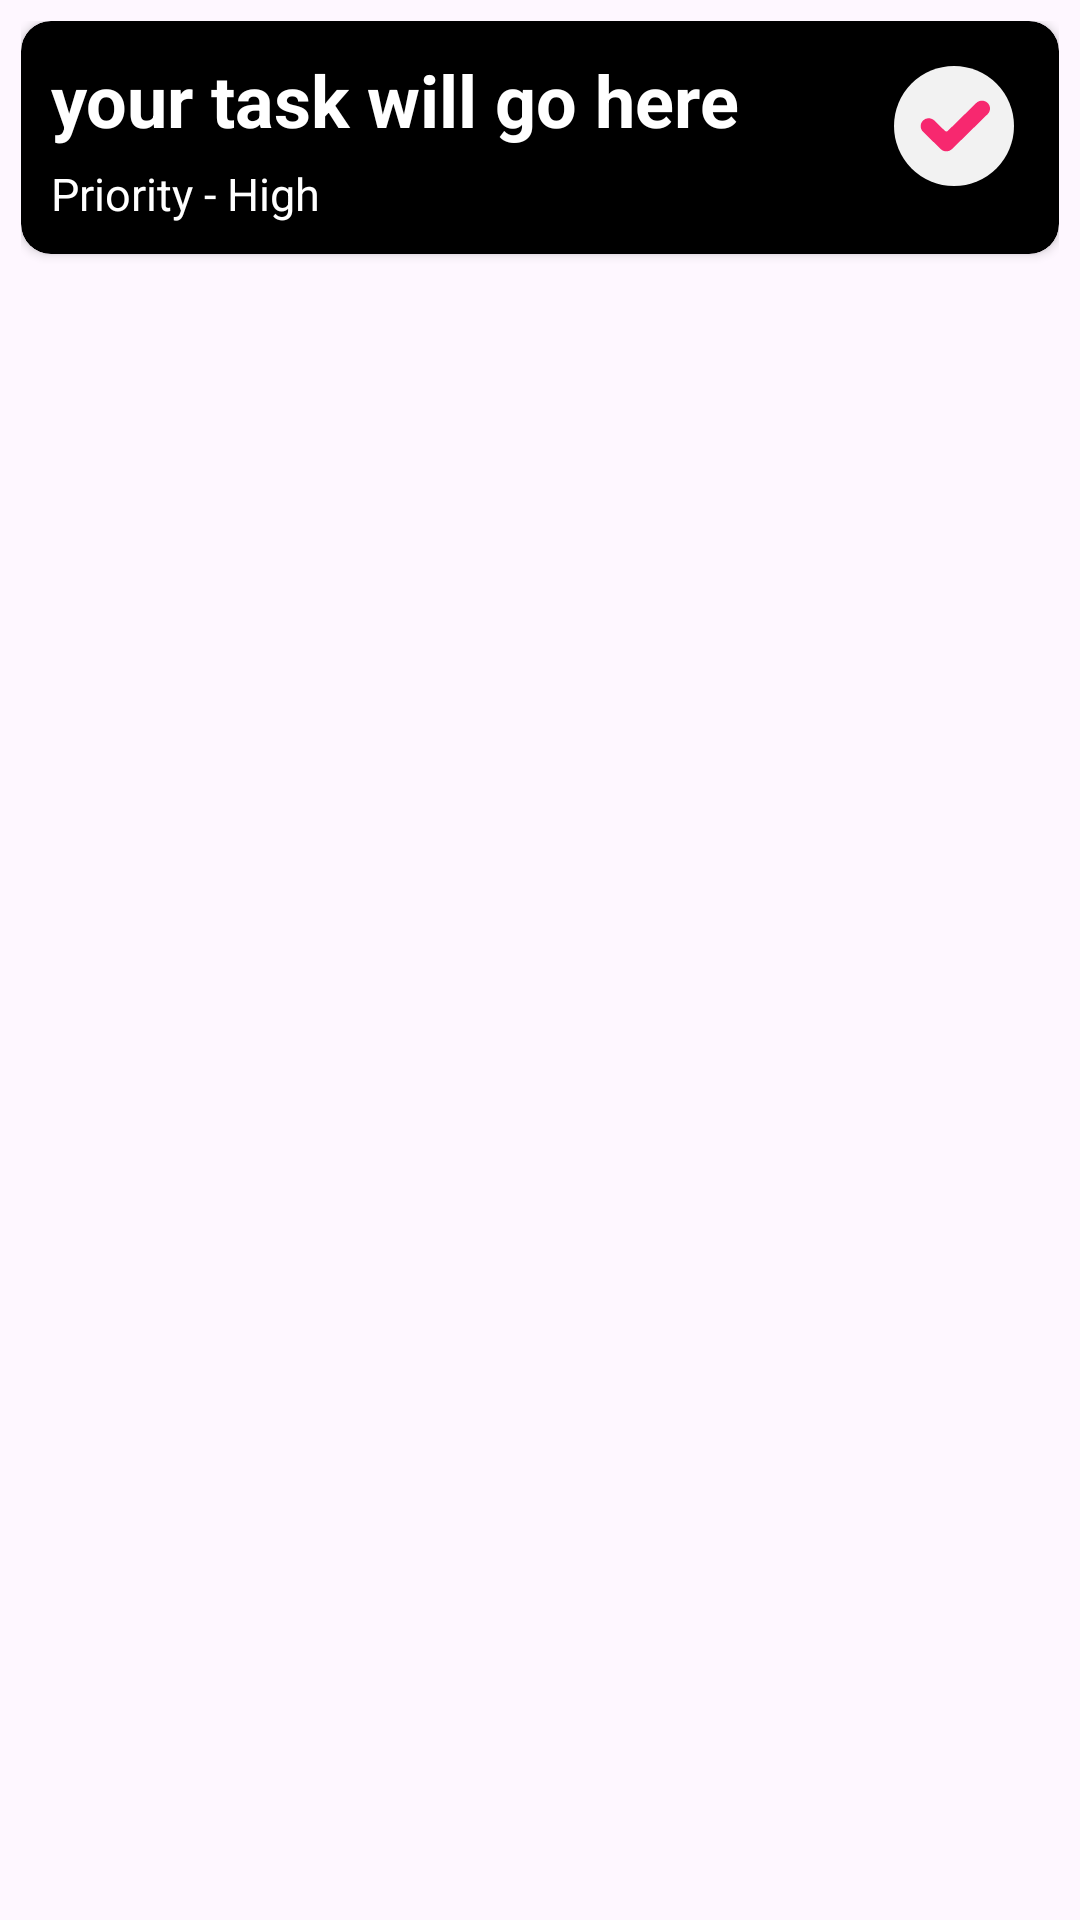

Where icons sit on this 1080×1920 app screen, as (x1, y1, x2, y2):
marktick: (894, 66, 1014, 186)
